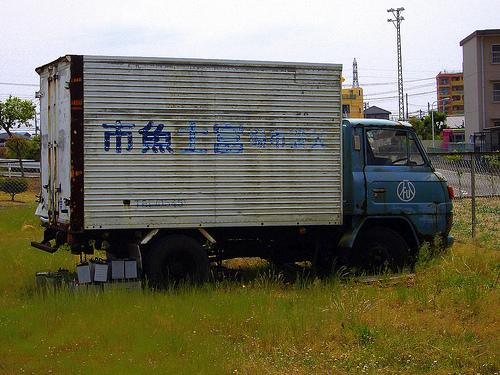truck: (31, 54, 455, 307)
